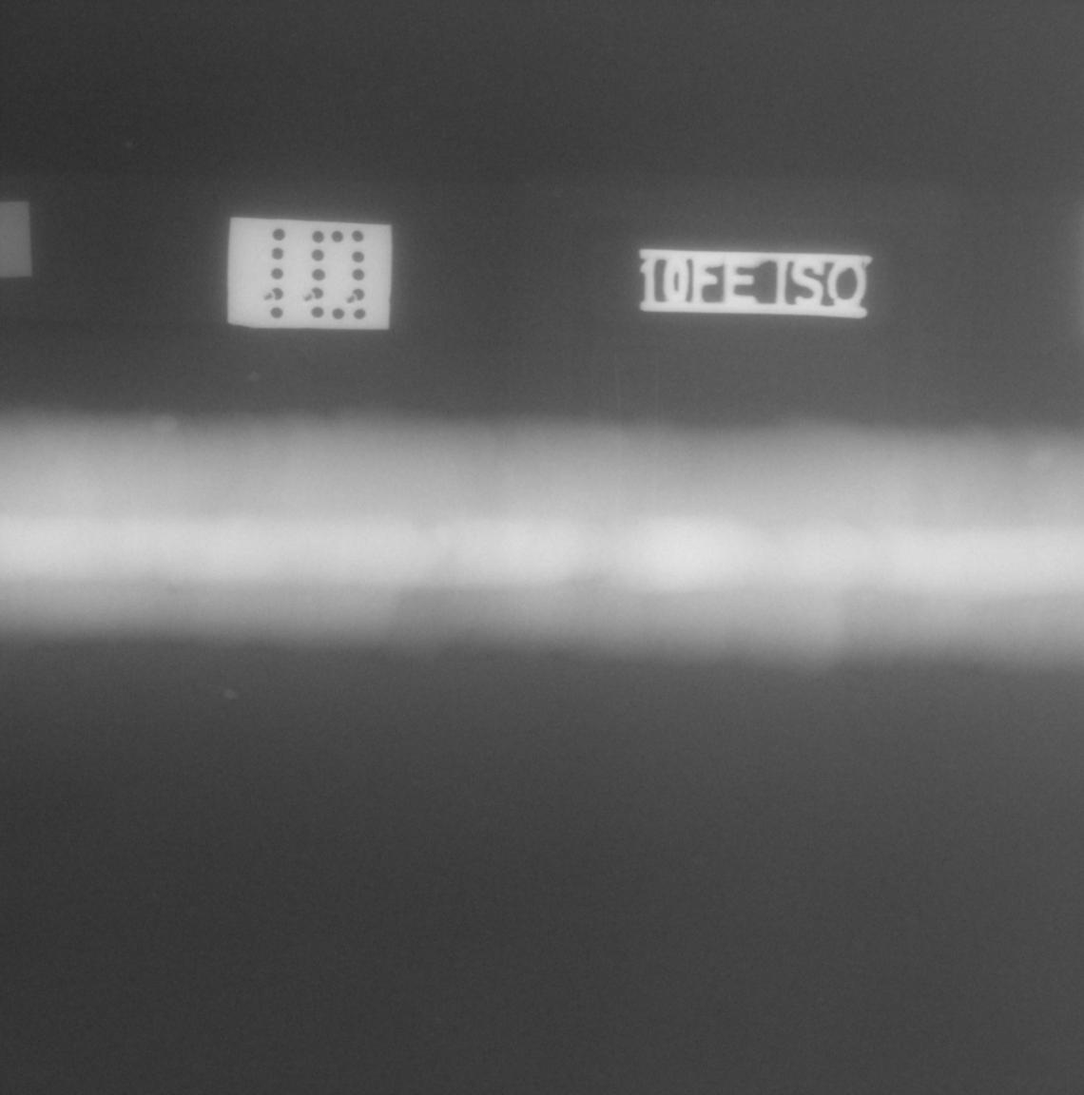Inclusion: (166, 583, 177, 595)
